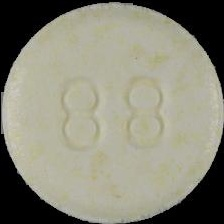13668-088: (0, 0, 224, 224)
